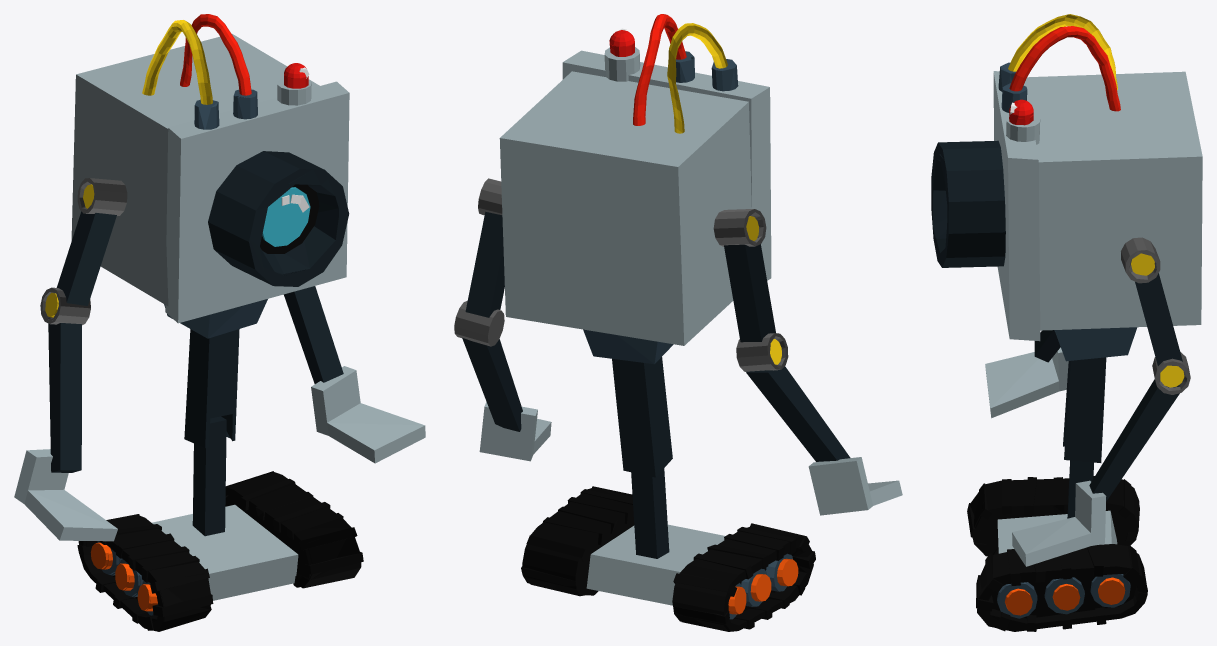
File: robot1.glb
3 renders of one model, left to right at view 1: azimuth 30°, elevation 25°; view 2: azimuth 150°, elevation 25°; view 3: azimuth 270°, elevation 25°, orthographic. The views are drawn at different scales.
Visible parts, largest first — view 1: mesh_id89, mesh_id87, mesh_id73, mesh_id78, mesh_id101, node_id8, node_id23, node_id11, node_id17, node_id5, node_id20, mesh_id88 (+6 smaller); view 2: mesh_id89, mesh_id73, mesh_id78, mesh_id101, node_id8, node_id11, node_id17, mesh_id88, node_id20, mesh_id100, mesh_id84, node_id5 (+6 smaller); view 3: mesh_id89, mesh_id87, mesh_id78, mesh_id73, node_id23, node_id11, node_id17, node_id20, mesh_id88, mesh_id95, mesh_id84, mesh_id77 (+8 smaller).
Part boxes in pixels (x1=…): mesh_id89: x1=71, y1=34, x2=349, y2=323; mesh_id87: x1=208, y1=151, x2=349, y2=286; mesh_id73: x1=77, y1=514, x2=213, y2=631; mesh_id78: x1=225, y1=471, x2=363, y2=588; mesh_id101: x1=48, y1=211, x2=116, y2=472; node_id8: x1=152, y1=504, x2=298, y2=600; node_id23: x1=311, y1=366, x2=425, y2=463; node_id11: x1=184, y1=329, x2=239, y2=447; node_id17: x1=14, y1=449, x2=117, y2=541; node_id5: x1=192, y1=416, x2=226, y2=536; node_id20: x1=283, y1=286, x2=343, y2=383; mesh_id88: x1=164, y1=89, x2=267, y2=338; mesh_id89: x1=499, y1=47, x2=771, y2=345; mesh_id73: x1=672, y1=523, x2=815, y2=631; mesh_id78: x1=521, y1=486, x2=634, y2=596; mesh_id101: x1=724, y1=244, x2=850, y2=461; node_id8: x1=586, y1=524, x2=725, y2=605; node_id11: x1=612, y1=357, x2=672, y2=477; node_id17: x1=808, y1=457, x2=902, y2=515; mesh_id88: x1=583, y1=51, x2=738, y2=364; node_id20: x1=462, y1=338, x2=522, y2=431; mesh_id100: x1=713, y1=209, x2=788, y2=371; mesh_id84: x1=465, y1=211, x2=504, y2=317; node_id5: x1=631, y1=468, x2=669, y2=558; mesh_id89: x1=993, y1=71, x2=1202, y2=341; mesh_id87: x1=931, y1=140, x2=1005, y2=267; mesh_id78: x1=976, y1=544, x2=1147, y2=631; mesh_id73: x1=967, y1=476, x2=1139, y2=556; node_id23: x1=1012, y1=480, x2=1106, y2=566; node_id11: x1=1063, y1=357, x2=1106, y2=462; node_id17: x1=985, y1=347, x2=1068, y2=418; node_id20: x1=1089, y1=379, x2=1180, y2=501; mesh_id88: x1=998, y1=62, x2=1137, y2=361; mesh_id95: x1=1009, y1=26, x2=1120, y2=111; mesh_id84: x1=1135, y1=273, x2=1182, y2=365; mesh_id77: x1=997, y1=574, x2=1130, y2=618.
Size of the model in its own units: 0.3714 by 0.512 by 0.2251.
74 materials, 74 textured.
